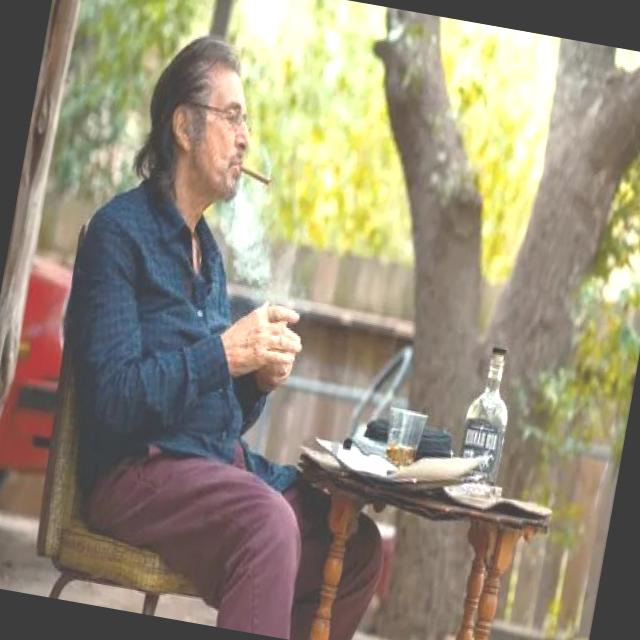smoke: (232, 154, 274, 192)
